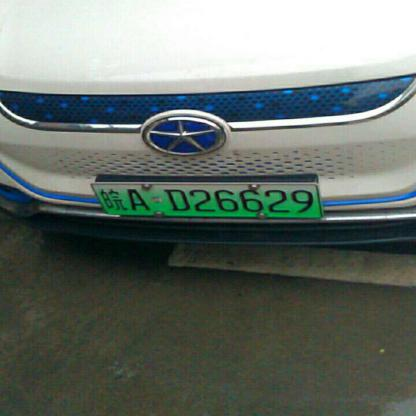lp: (90, 184, 321, 218)
